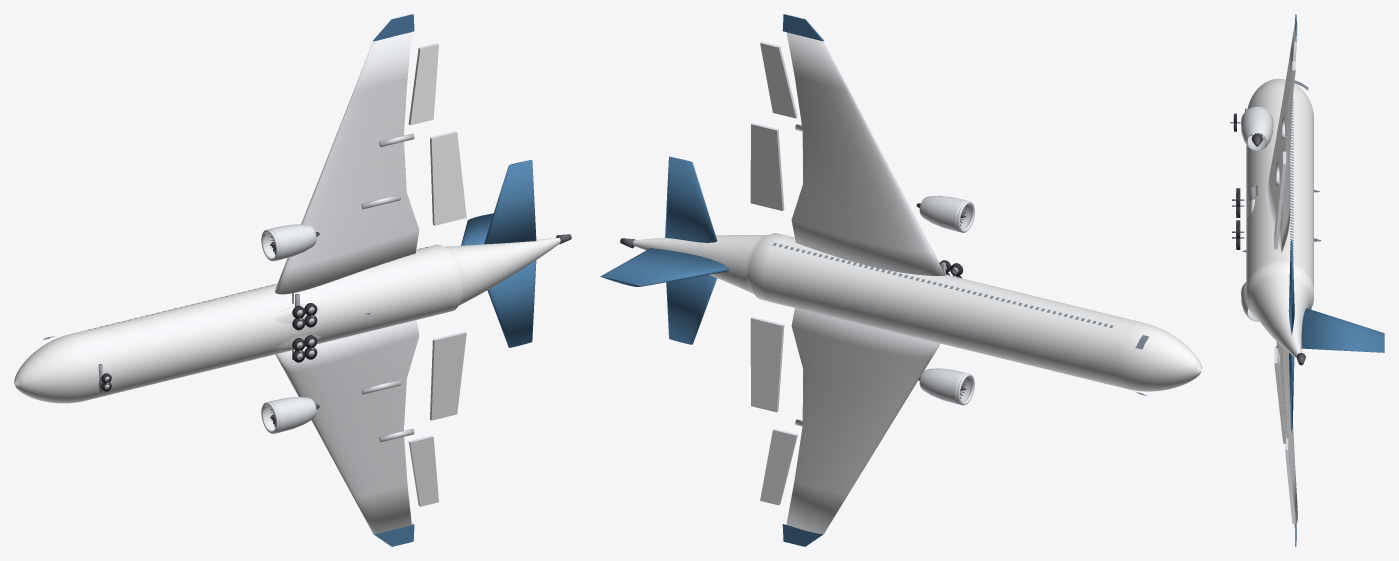
3 renders of one model, left to right at view 1: azimuth 30°, elevation 25°; view 2: azimuth 150°, elevation 25°; view 3: azimuth 270°, elevation 25°, orthographic.
Parts seen in each view (by area): view 1: Fuselage, Wing_R, Wing_L, HStab_R, Flap_R, HStab_L, Flap_L, Aileron_R, Aileron_L, Nacelle_-1_0, Nacelle_1_0, Fin; view 2: Fuselage, Wing_R, Wing_L, HStab_R, Fin, Flap_L, Flap_R, HStab_L, Aileron_L, Aileron_R, Nacelle_-1_0, Nacelle_1_0; view 3: Fuselage, Fin, Wing_R, Wing_L, Nacelle_1_0, Flap_R, Flap_L, HStab_R, Aileron_L, Aileron_R, HStab_L, Windows_1_70 (+1 smaller).
Part boxes in pixels (left/top/right/bottom): Fuselage: left=14, top=238, right=560, bottom=403; Wing_R: left=274, top=32, right=419, bottom=294; Wing_L: left=275, top=320, right=419, bottom=534; HStab_R: left=484, top=160, right=536, bottom=244; Flap_R: left=430, top=131, right=466, bottom=225; HStab_L: left=487, top=260, right=536, bottom=347; Flap_L: left=430, top=331, right=466, bottom=420; Aileron_R: left=408, top=43, right=438, bottom=125; Aileron_L: left=408, top=435, right=438, bottom=506; Nacelle_-1_0: left=264, top=397, right=316, bottom=433; Nacelle_1_0: left=264, top=224, right=316, bottom=260; Fin: left=461, top=213, right=493, bottom=245; Fuselage: left=633, top=233, right=1201, bottom=391; Wing_R: left=786, top=32, right=945, bottom=275; Wing_L: left=786, top=308, right=940, bottom=534; HStab_R: left=665, top=156, right=717, bottom=242; Fin: left=600, top=248, right=728, bottom=286; Flap_L: left=750, top=317, right=784, bottom=412; Flap_R: left=750, top=123, right=784, bottom=210; HStab_L: left=666, top=275, right=717, bottom=344; Aileron_L: left=760, top=429, right=797, bottom=505; Aileron_R: left=760, top=42, right=797, bottom=118; Nacelle_-1_0: left=919, top=368, right=971, bottom=404; Nacelle_1_0: left=919, top=195, right=971, bottom=232; Fuselage: left=1246, top=78, right=1313, bottom=358; Fin: left=1301, top=308, right=1384, bottom=352; Wing_R: left=1266, top=23, right=1297, bottom=252; Wing_L: left=1276, top=341, right=1297, bottom=528; Nacelle_1_0: left=1241, top=107, right=1273, bottom=150; Flap_R: left=1274, top=151, right=1286, bottom=249; Flap_L: left=1274, top=347, right=1286, bottom=443; HStab_R: left=1288, top=240, right=1294, bottom=334; Aileron_L: left=1285, top=438, right=1295, bottom=523; Aileron_R: left=1285, top=61, right=1295, bottom=135; HStab_L: left=1289, top=353, right=1294, bottom=431; Windows_1_70: left=1290, top=99, right=1293, bottom=262.
Size of the model in its own units: 54.04 by 47.96 by 12.83.
